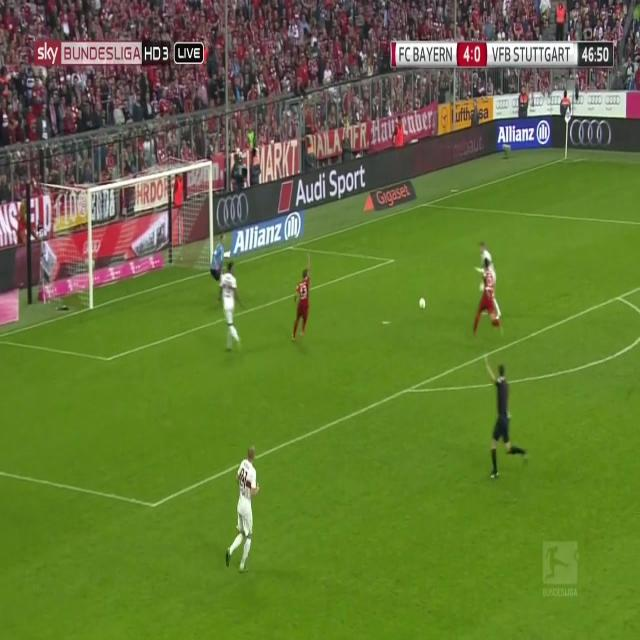Ball: (418, 294, 427, 313)
Goalkeeper: (208, 226, 227, 282)
Player: (224, 441, 261, 582), (216, 254, 248, 356), (469, 257, 504, 342), (288, 250, 313, 348)
Referee: (484, 354, 531, 486)
